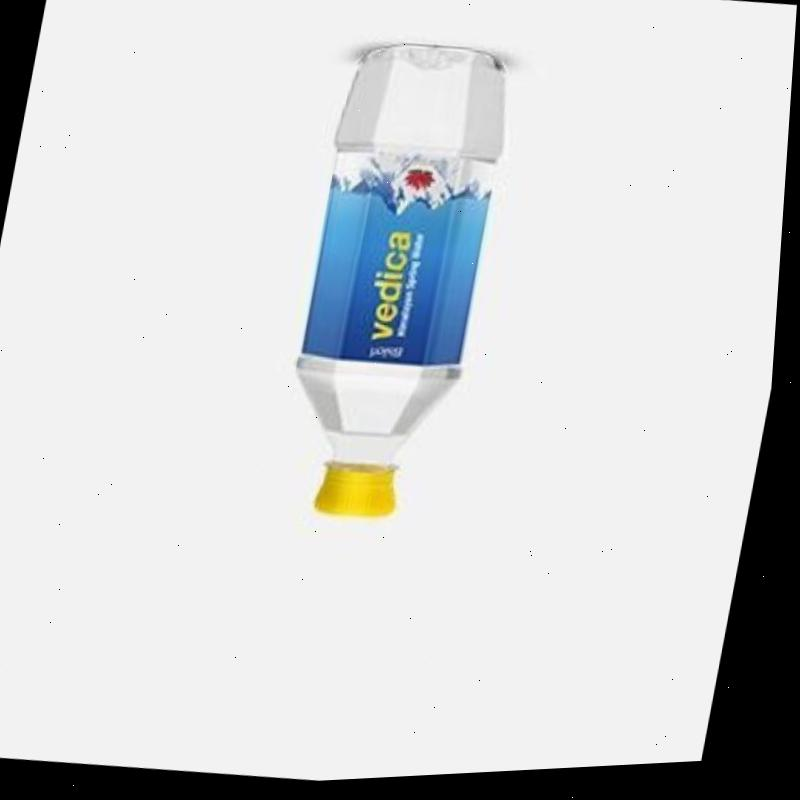botella: (274, 37, 527, 534)
